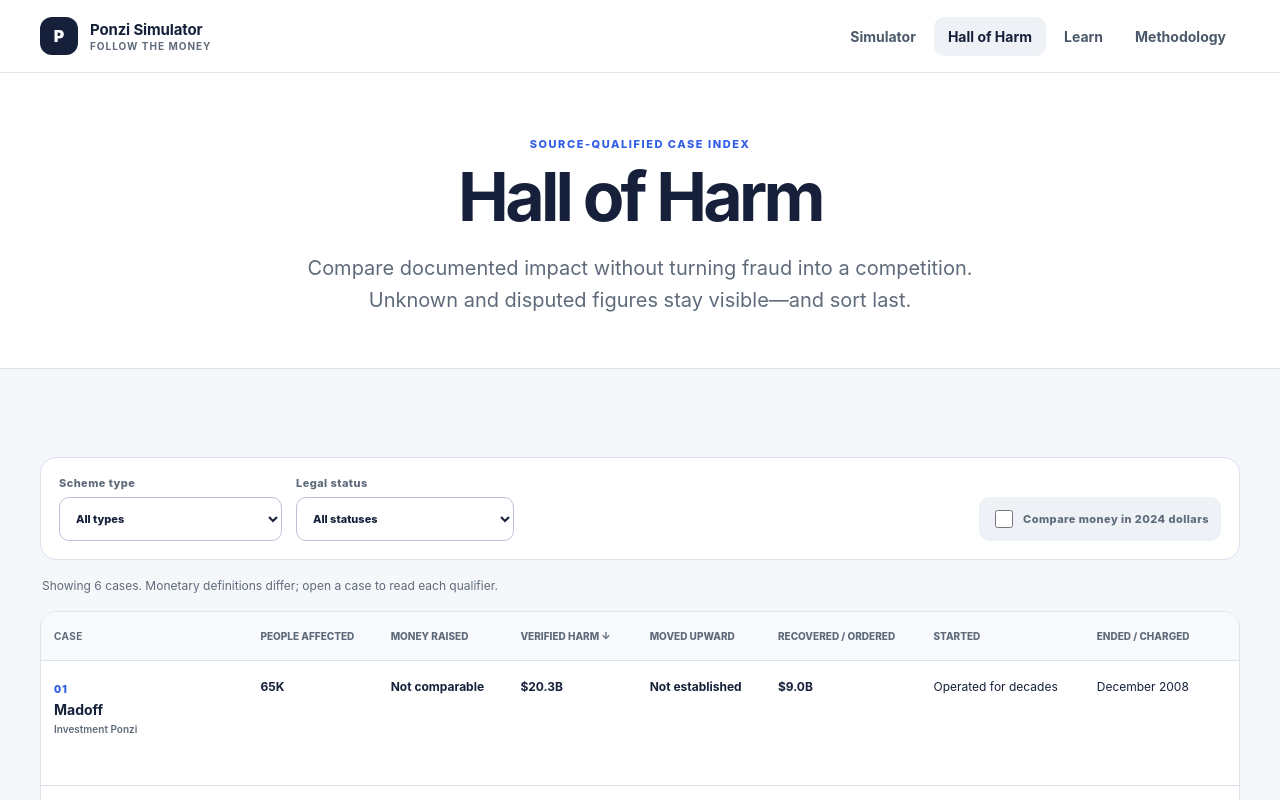
Hall of Harm controls › sorts and filters while preserving state in the URL
Check: the row that starts with "Madoff" is shown, box [54,701,234,718]
Click the button "People affected". click: [307, 636]
box: [260,630,354,642]
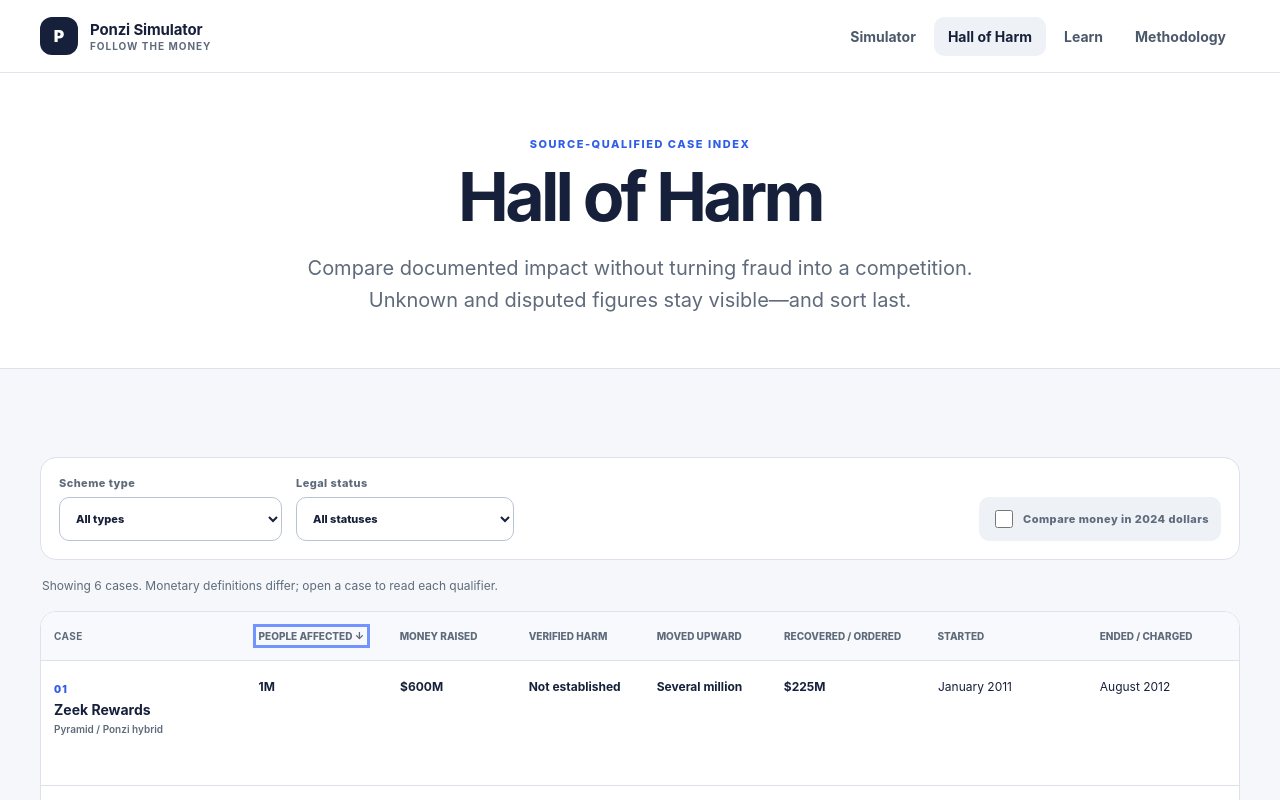
Click the button "People affected ↓". click: [311, 636]
box: [259,630,364,642]
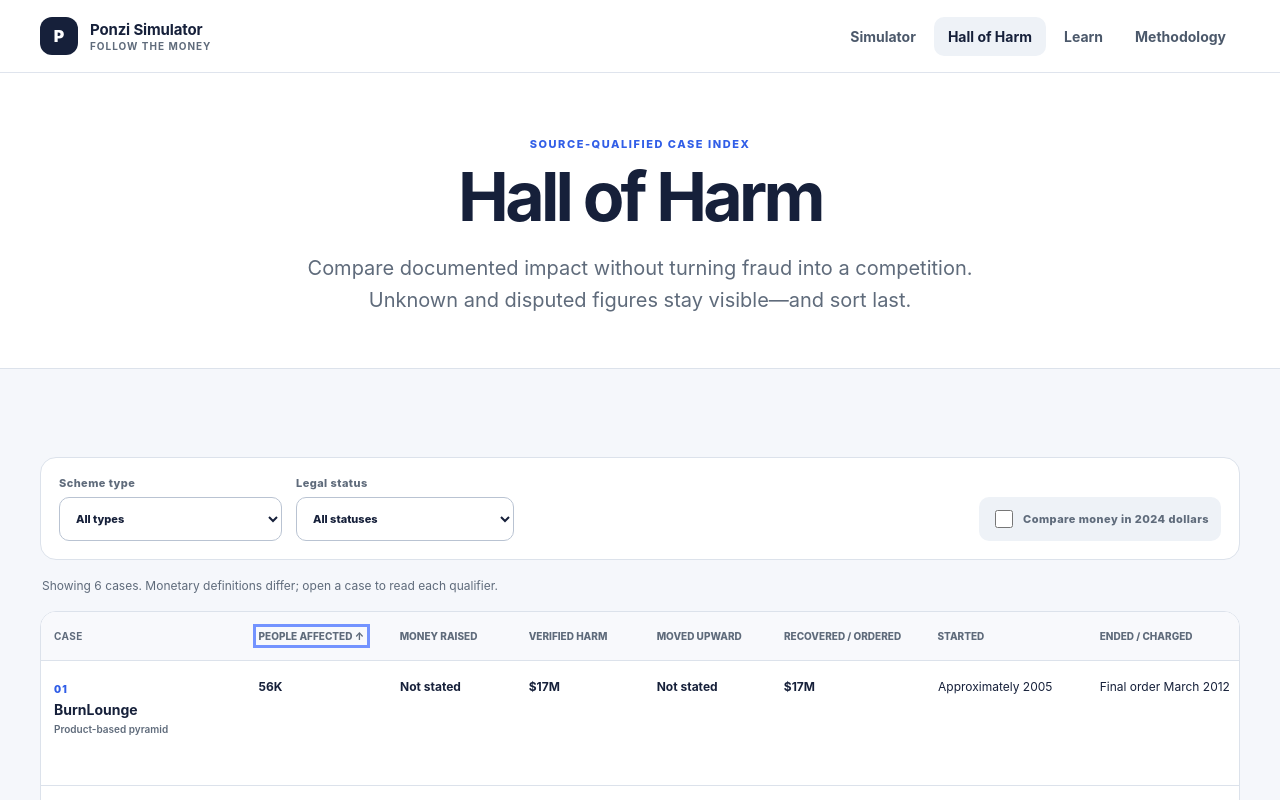
Select "Investment Ponzi" in the dropdown labelled "Scheme type". click: [170, 519]
box: [59,497,282,541]
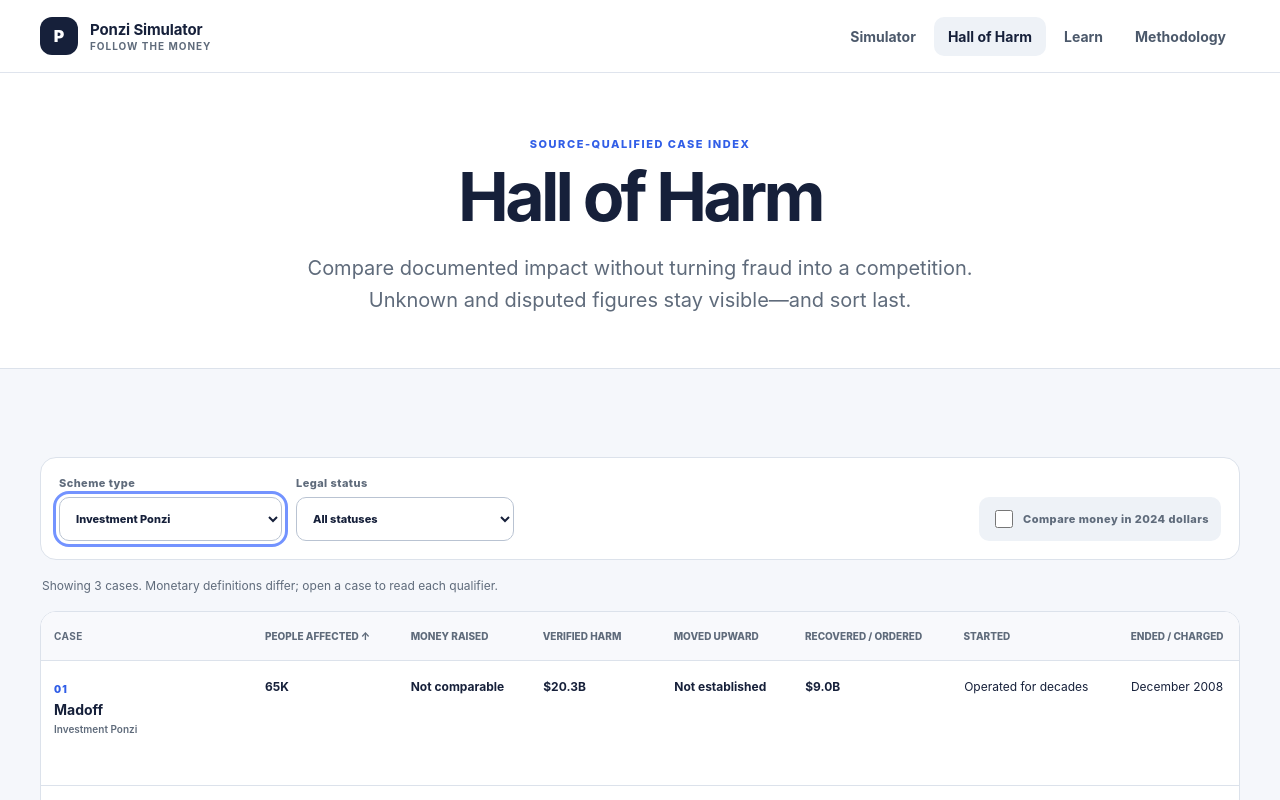
Check: the text "Showing 3 cases" is shown, box [42,578,498,593]
